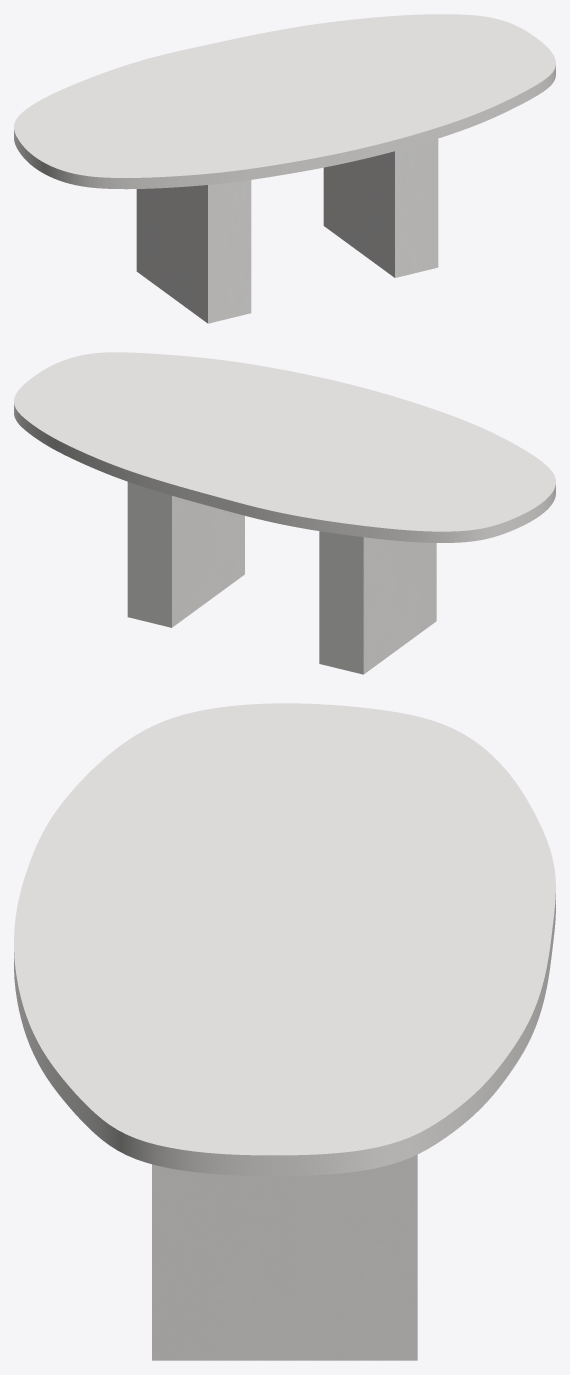
File: purewhite_danish_standard_ridge.glb
3 renders of one model, top to bottom at view 1: azimuth 30°, elevation 25°; view 2: azimuth 150°, elevation 25°; view 3: azimuth 270°, elevation 25°, orthographic. The views are drawn at different scales.
Parts seen in each view (by area): view 1: standard_danish, ridge; view 2: standard_danish, ridge; view 3: standard_danish, ridge.
Boxes of the visible parts, <box> form: standard_danish: <box>14,14,555,189</box>; ridge: <box>136,138,438,323</box>; standard_danish: <box>14,352,555,542</box>; ridge: <box>127,482,436,674</box>; standard_danish: <box>14,703,555,1175</box>; ridge: <box>152,1154,417,1360</box>.
Bounding box in the file's own units: 7.5 × 2.5 × 3.8.
1 material, 1 textured.
